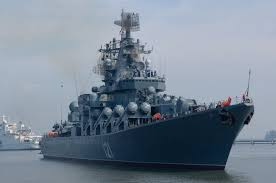tau_muctieu: (40, 43, 252, 174)
